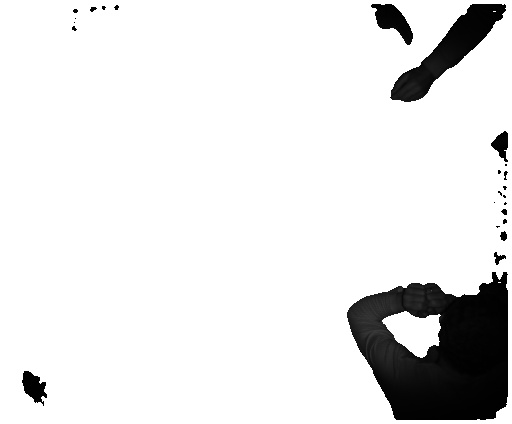fist: (384, 67, 436, 103), (397, 282, 437, 322)
